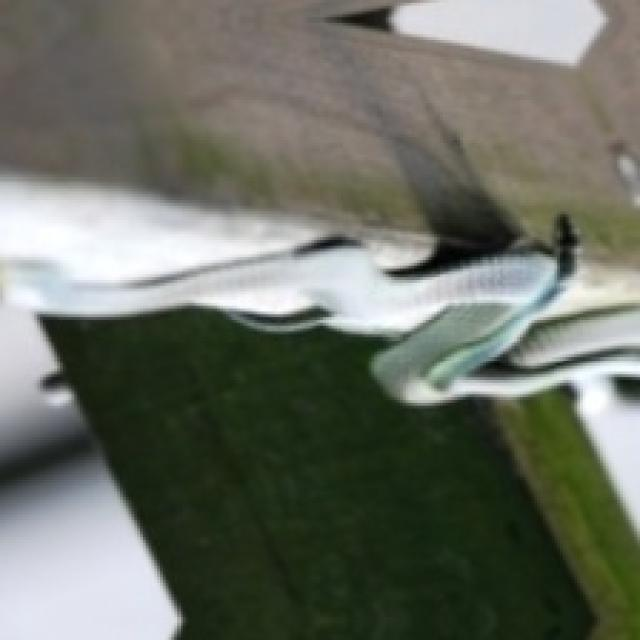paradise tree snake: (0, 0, 637, 331), (40, 271, 286, 311)
